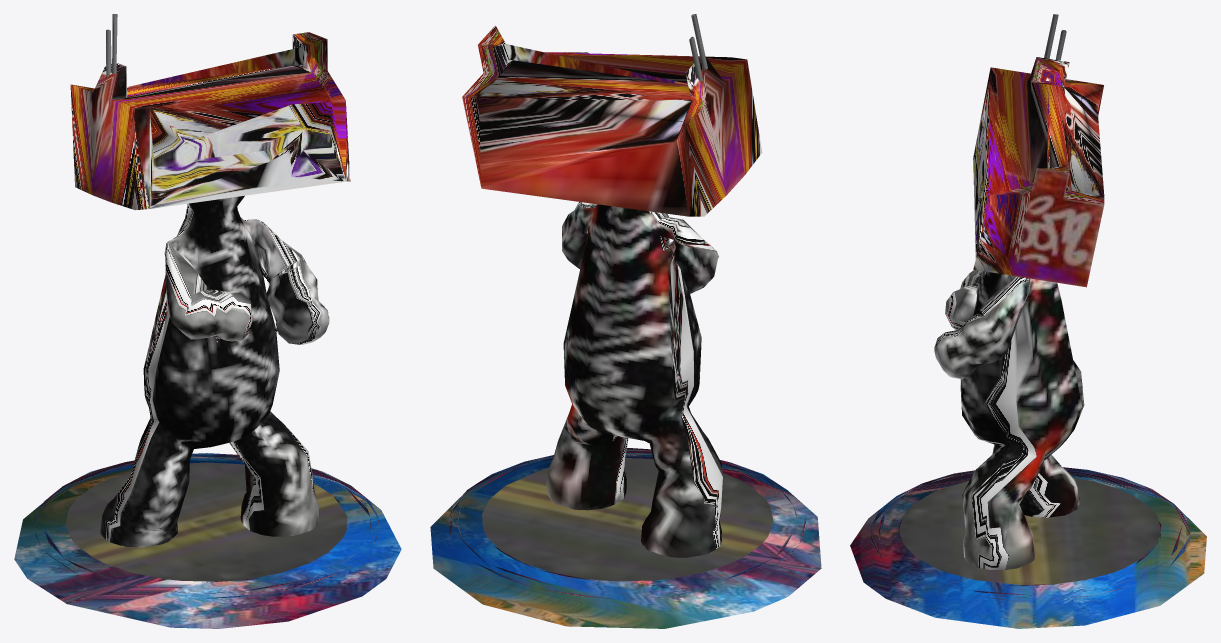
3 renders of one model, left to right at view 1: azimuth 30°, elevation 25°; view 2: azimuth 150°, elevation 25°; view 3: azimuth 270°, elevation 25°, orthographic. The views are drawn at different scales.
Bounding box in the file's own units: 1.44 × 2.22 × 1.43.
Materials: 5 (4 with a texture image).
